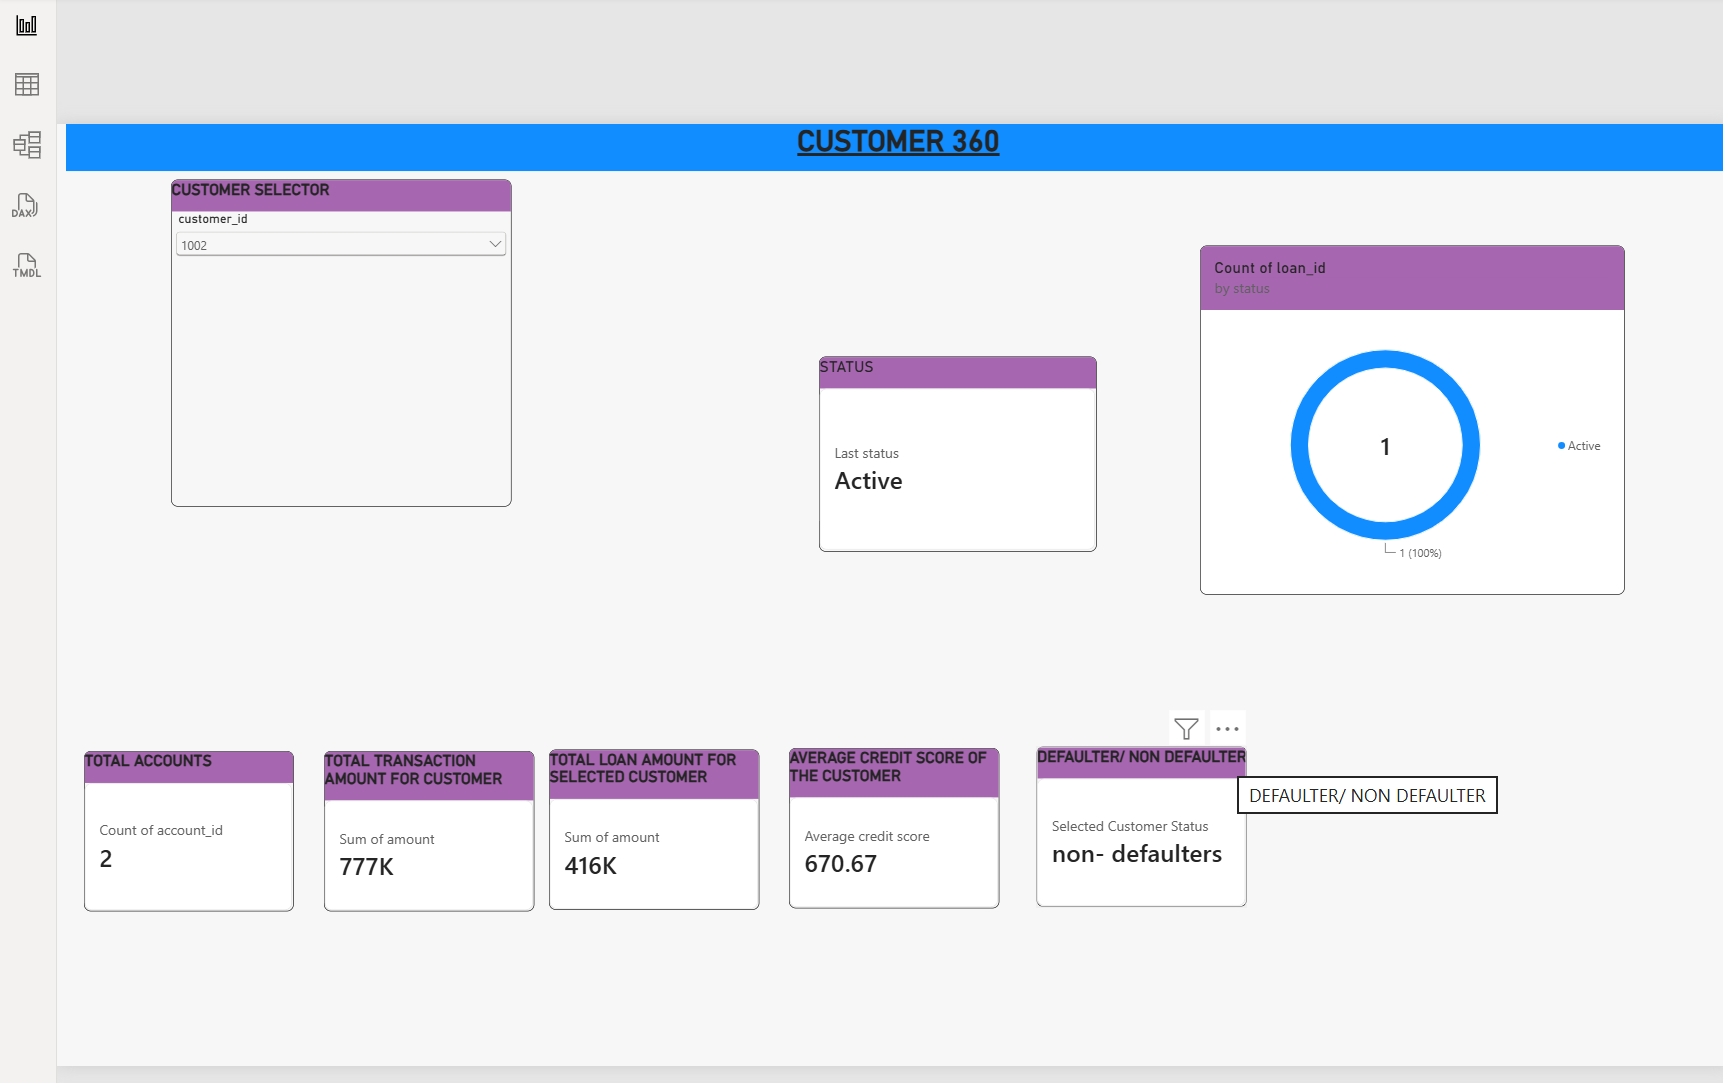

The dashboard page shown, as its layout file describes it:
{"tool":"powerbi","page":{"name":"Page 7","canvas":[1920,1080],"ordinal":6},"visuals":[{"type":"textbox","title":"CUSTOMER 360 ","box":[10.4,0,1910.2,126.9],"z":0},{"type":"slicer","title":"CUSTOMER SELECTOR","fields":{"Values":["finance_db customers.customer_id"]},"box":[130.8,63.7,390.7,375.2],"z":1},{"type":"cardVisual","title":"TOTAL ACCOUNTS","fields":{"Data":["CountNonNull(finance_db accounts.account_id)"]},"box":[31,719.4,240.9,184.1],"z":2},{"type":"cardVisual","title":"TOTAL TRANSACTION AMOUNT FOR CUSTOMER","fields":{"Data":["Sum(finance_db transactions.amount)"]},"box":[306.3,719.4,241,184],"z":3},{"type":"cardVisual","title":"TOTAL LOAN AMOUNT FOR SELECTED CUSTOMER","fields":{"Data":["Sum(finance_db f_m_loans.amount)"]},"box":[564.5,717.6,241,184],"z":4},{"type":"cardVisual","title":"AVERAGE CREDIT SCORE OF THE CUSTOMER","fields":{"Data":["finance_db accounts.Average credit score"]},"box":[839.8,715.9,241,184],"z":5},{"type":"cardVisual","title":"DEFAULTER/ NON DEFAULTER","fields":{"Data":["finance_db accounts.Selected Customer Status"]},"box":[1123.8,714.2,241,184],"z":6},{"type":"cardVisual","title":"STATUS","fields":{"Data":["Max(finance_db f_m_loans.status)"]},"box":[874.2,266.7,318.4,223.7],"z":7},{"type":"donutChart","fields":{"Category":["finance_db f_m_loans.status"],"Y":["CountNonNull(finance_db f_m_loans.loan_id)"]},"box":[1311.4,139.4,487,401],"z":8}]}

Visuals, with their boxes on the page's 1920x1080 design canvas (x1, y1, x2, y2). These are canvas units, not pixel positions in the 1723x1083 screenshot, which may show the page scaled, cropped or inside an application window:
"CUSTOMER 360 " textbox: l=10, t=0, r=1921, b=127
"CUSTOMER SELECTOR" slicer: l=131, t=64, r=522, b=439
"TOTAL ACCOUNTS" cardVisual: l=31, t=719, r=272, b=904
"TOTAL TRANSACTION AMOUNT FOR CUSTOMER" cardVisual: l=306, t=719, r=547, b=903
"TOTAL LOAN AMOUNT FOR SELECTED CUSTOMER" cardVisual: l=564, t=718, r=806, b=902
"AVERAGE CREDIT SCORE OF THE CUSTOMER" cardVisual: l=840, t=716, r=1081, b=900
"DEFAULTER/ NON DEFAULTER" cardVisual: l=1124, t=714, r=1365, b=898
"STATUS" cardVisual: l=874, t=267, r=1193, b=490
donutChart - finance_db f_m_loans.status x CountNonNull(finance_db f_m_loans.loan_id): l=1311, t=139, r=1798, b=540
